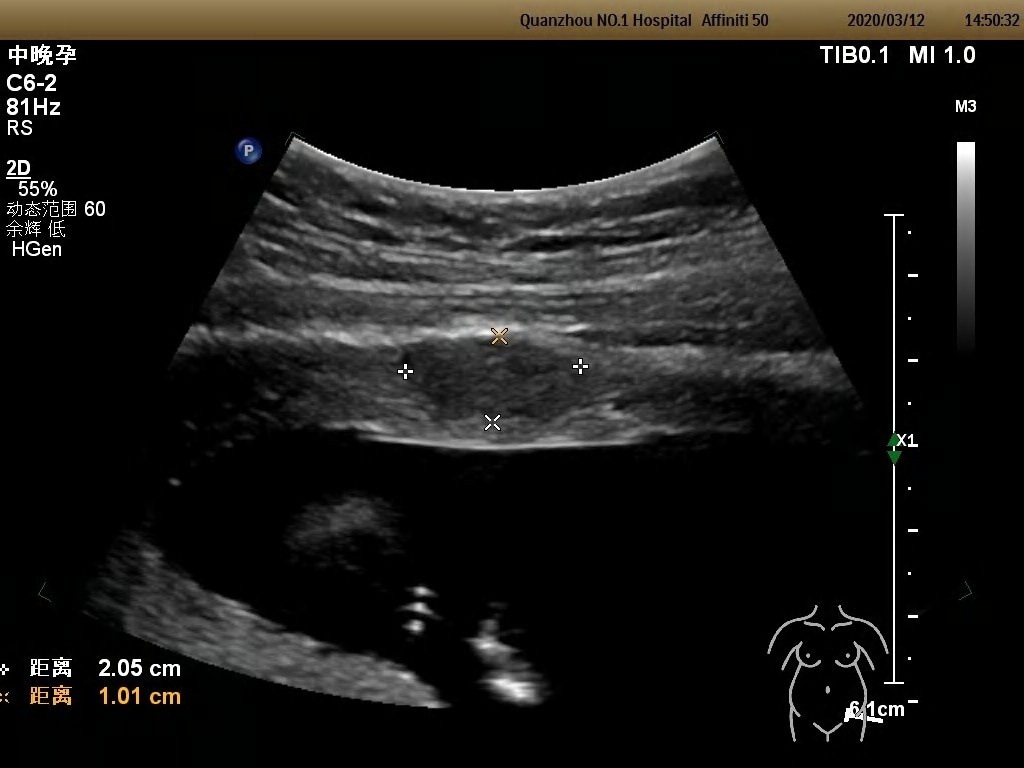肌瘤: (403, 338, 582, 423)
